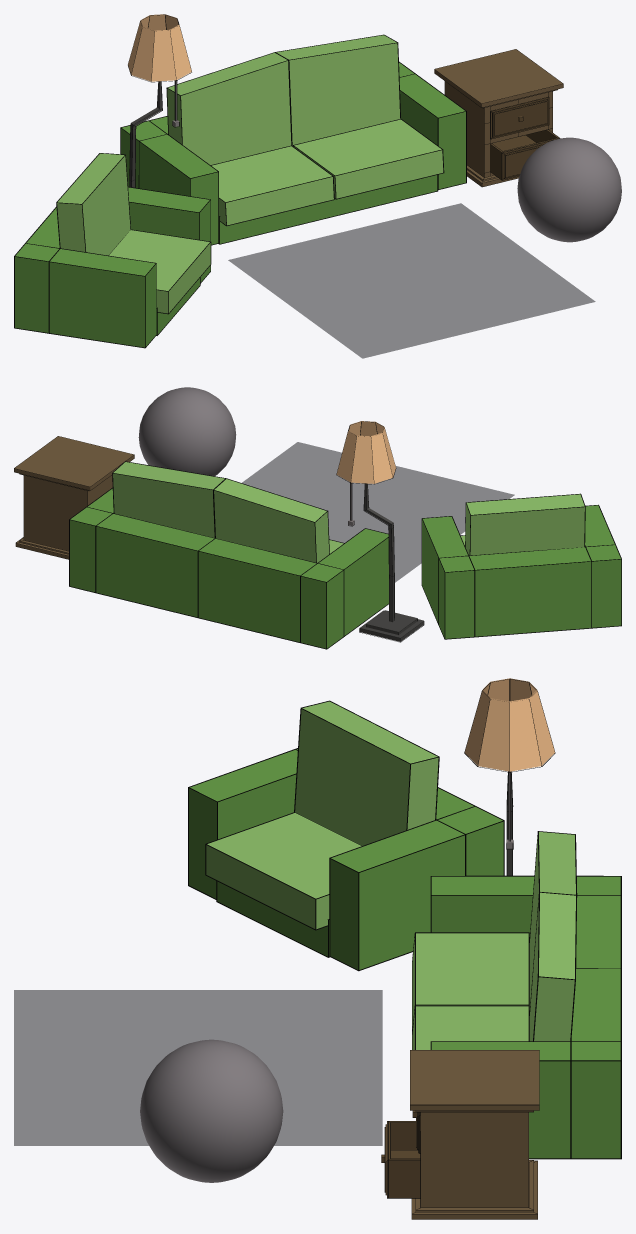
File: couch.fbx
3 renders of one model, top to bottom at view 1: azimuth 30°, elevation 25°; view 2: azimuth 150°, elevation 25°; view 3: azimuth 270°, elevation 25°, orthographic. The views are drawn at different scales.
Parts seen in each view (by area): view 1: couch-2, carpet, couch-1, nighstand, yoga-ball, lamp, couch-2.001, couch-1-wireframe, nighstand-wireframe, lamp-wireframe; view 2: couch-2, couch-1, carpet, nighstand, yoga-ball, lamp, couch-2.001, couch-1-wireframe, lamp-wireframe, nighstand-wireframe; view 3: couch-1, couch-2, carpet, nighstand, yoga-ball, lamp, couch-2.001, couch-1-wireframe, nighstand-wireframe, lamp-wireframe.
Boxes of the visible parts, x1,y1,x2,y2 form: couch-2: (121,35,465,244); carpet: (228,203,595,358); couch-1: (15,153,210,347); nighstand: (434,49,563,186); yoga-ball: (517,137,621,242); lamp: (128,14,191,187); couch-2.001: (120,34,466,245); couch-1-wireframe: (14,153,211,348); nighstand-wireframe: (434,49,563,187); lamp-wireframe: (128,14,191,187); couch-2: (70,462,388,648); couch-1: (422,494,621,638); carpet: (242,442,514,582); nighstand: (14,436,134,559); yoga-ball: (138,387,236,476); lamp: (336,421,423,641); couch-2.001: (69,461,388,649); couch-1-wireframe: (421,493,621,639); lamp-wireframe: (336,421,424,642); nighstand-wireframe: (14,436,134,559); couch-1: (189,701,503,969); couch-2: (412,832,620,1158); carpet: (14,990,382,1145); nighstand: (381,1050,539,1219); yoga-ball: (140,1039,283,1182); lamp: (465,678,554,875); couch-2.001: (412,831,621,1159); couch-1-wireframe: (188,700,504,971); nighstand-wireframe: (381,1050,539,1219); lamp-wireframe: (464,679,555,875).
Bounding box in the file's own units: 1273 × 440 × 848.
